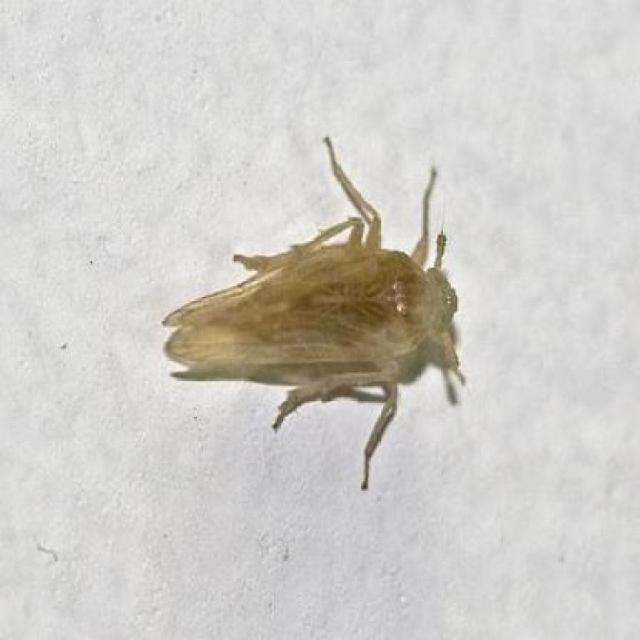brown-planthopper: (157, 215, 472, 418)
